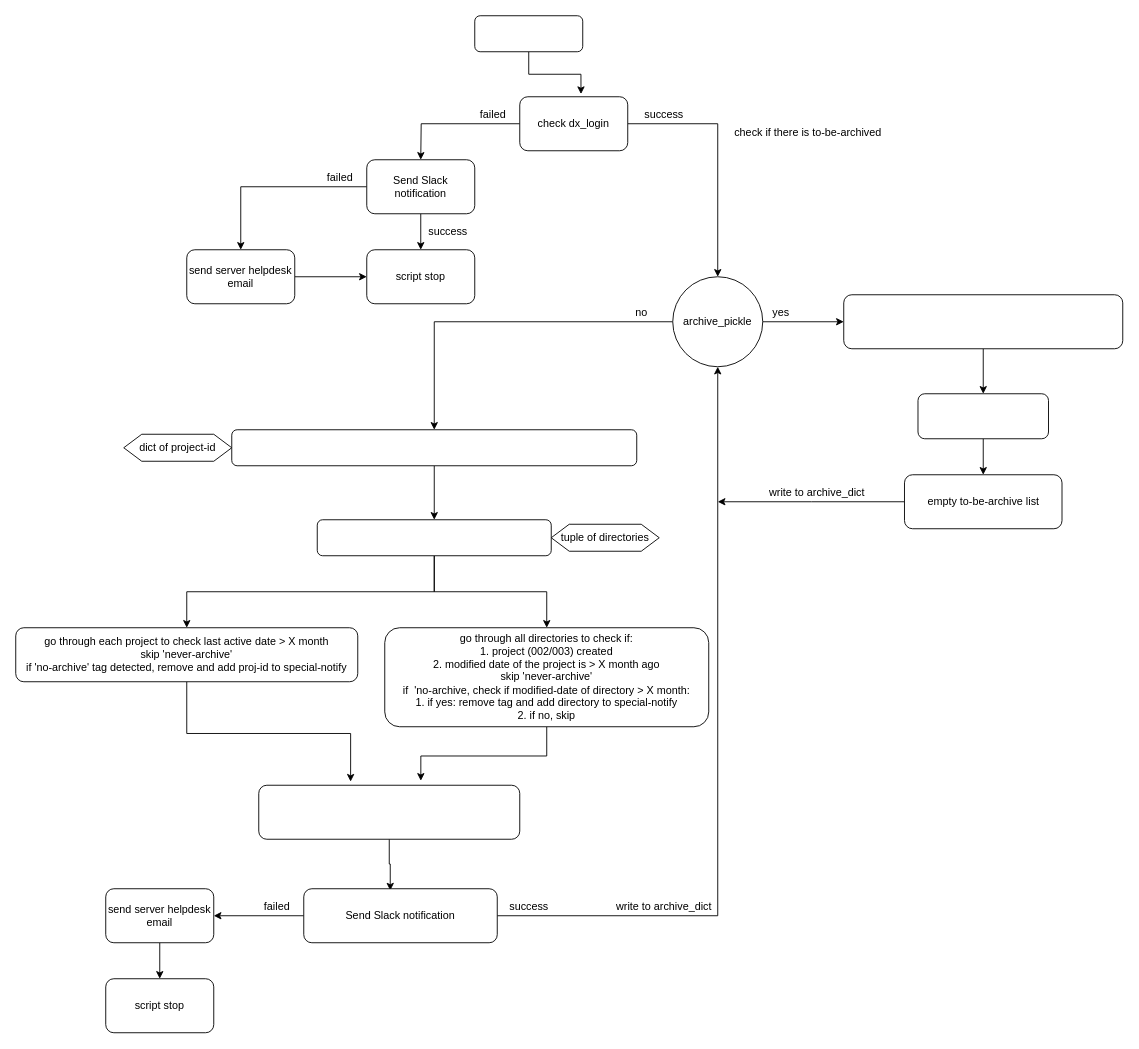
Some shapes in this 1139 by 1049 pixel diagram are drawn without their labels. The shapes that lost their labels are listed below. From the top down, each one's box as (x1, y1, x2, y2) in pixels, then its label:
(474, 15, 583, 52): Script executed
(843, 294, 1123, 349): start archiving projects and directories
(917, 393, 1048, 439): generate archived.txt
(231, 429, 637, 466): Find project (002 and 003) which are inactive for X months
(316, 519, 551, 556): Get all directories in staging52 & staging53
(258, 784, 520, 839): Compile all qualified to-be-archived
